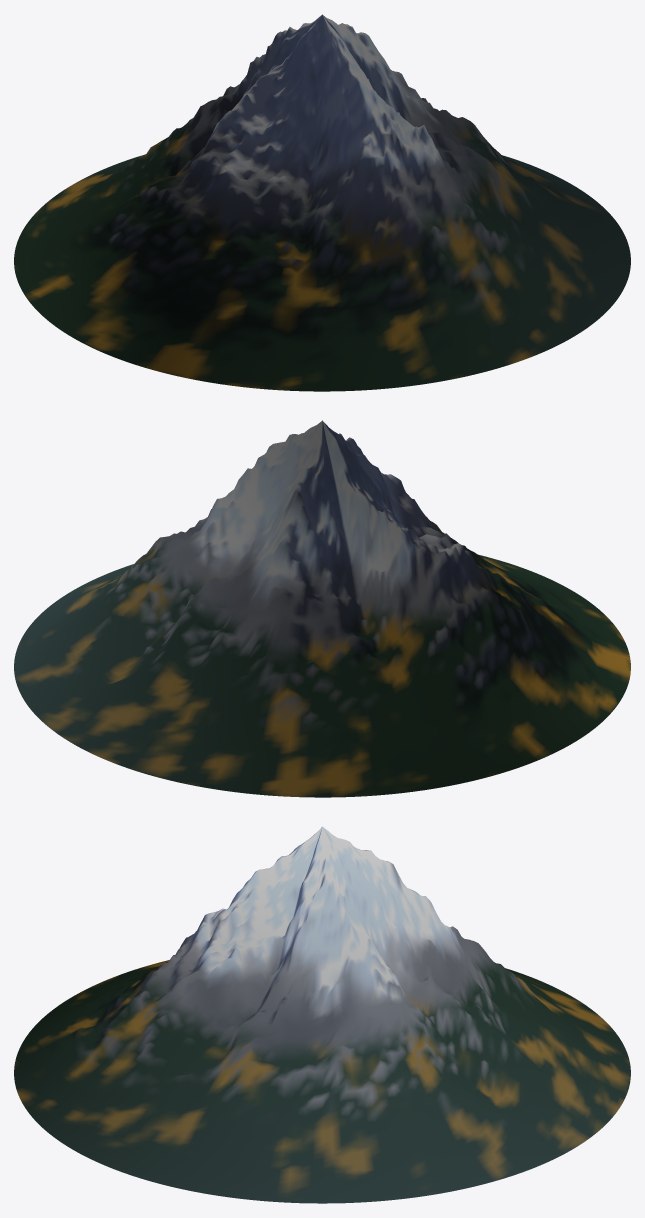
The picture shows the model from 3 angles, top to bottom: view 1: azimuth 30°, elevation 25°; view 2: azimuth 150°, elevation 25°; view 3: azimuth 270°, elevation 25°; orthographic projection.
Visible parts, largest first — view 1: L4_3_Peak5; view 2: L4_3_Peak5; view 3: L4_3_Peak5.
Part boxes in pixels (x1=…): L4_3_Peak5: x1=14, y1=14, x2=630, y2=391; L4_3_Peak5: x1=14, y1=420, x2=630, y2=797; L4_3_Peak5: x1=14, y1=826, x2=630, y2=1203.
Size of the model in its own units: 1360 by 600 by 1360.
